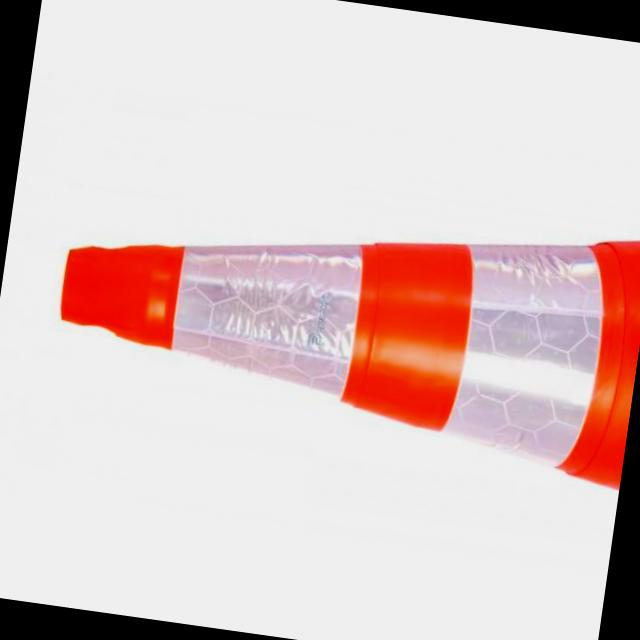cone: (48, 157, 640, 489)
